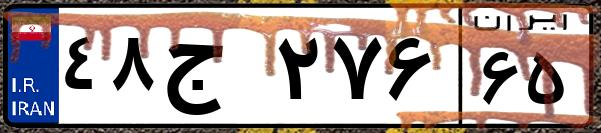2: (270, 28, 330, 110)
4: (57, 26, 110, 100)
5: (525, 38, 570, 115)
6: (385, 28, 445, 110), (475, 38, 525, 113)
7: (330, 28, 385, 110)
8: (110, 28, 158, 98)
ج: (158, 20, 270, 120)
